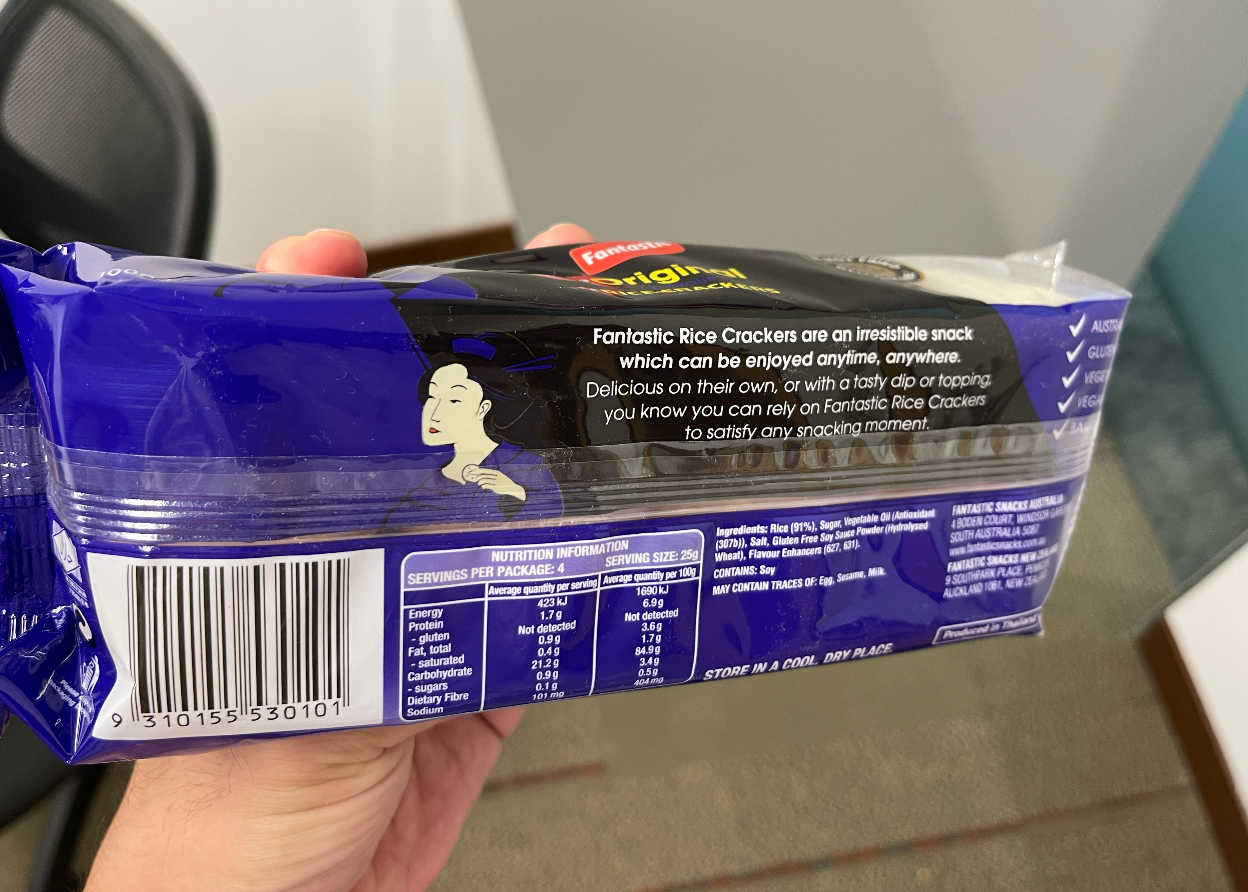crackers_100g-199g: (81, 284, 1059, 654)
